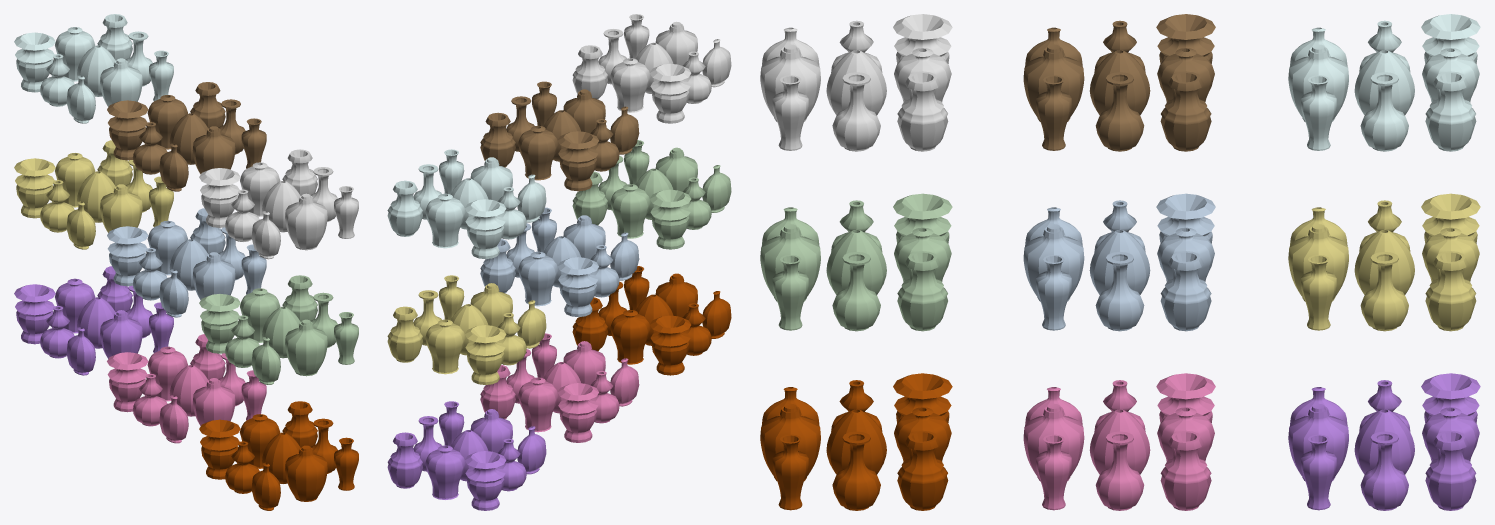
The model's file is vase_1.fbx.
3 renders of one model, left to right at view 1: azimuth 30°, elevation 25°; view 2: azimuth 150°, elevation 25°; view 3: azimuth 270°, elevation 25°, orthographic. The views are drawn at different scales.
Visible parts, largest first — view 1: pCylinder205, pCylinder223, pCylinder232, pCylinder169, pCylinder178, pCylinder196, pCylinder214, pCylinder241, pCylinder187, pCylinder201, pCylinder210, pCylinder192 (+69 smaller); view 2: pCylinder178, pCylinder205, pCylinder214, pCylinder187, pCylinder241, pCylinder196, pCylinder169, pCylinder223, pCylinder232, pCylinder238, pCylinder229, pCylinder220 (+69 smaller); view 3: pCylinder172, pCylinder208, pCylinder217, pCylinder226, pCylinder181, pCylinder235, pCylinder190, pCylinder199, pCylinder244, pCylinder228, pCylinder165, pCylinder174 (+60 smaller).
Boxes of the visible parts, x1,y1,x2,y2 form: pCylinder205: (199, 168, 240, 227); pCylinder223: (14, 158, 55, 218); pCylinder232: (14, 32, 55, 92); pCylinder169: (107, 226, 148, 286); pCylinder178: (107, 100, 148, 160); pCylinder196: (199, 294, 240, 353); pCylinder214: (199, 419, 240, 479); pCylinder241: (14, 284, 55, 344); pCylinder187: (107, 352, 148, 412); pCylinder201: (285, 193, 327, 250); pCylinder210: (285, 445, 327, 501); pCylinder192: (285, 319, 327, 376); pCylinder178: (557, 131, 598, 191); pCylinder205: (650, 63, 691, 123); pCylinder214: (650, 315, 691, 375); pCylinder187: (557, 383, 598, 442); pCylinder241: (464, 451, 506, 510); pCylinder196: (650, 189, 691, 249); pCylinder169: (557, 257, 598, 317); pCylinder223: (464, 325, 506, 384); pCylinder232: (464, 199, 506, 259); pCylinder238: (425, 445, 465, 499); pCylinder229: (425, 193, 465, 248); pCylinder220: (425, 319, 465, 374); pCylinder172: (1160, 251, 1211, 331); pCylinder208: (897, 71, 948, 151); pCylinder217: (897, 430, 948, 510); pCylinder226: (1425, 251, 1476, 331); pCylinder181: (1160, 71, 1211, 151); pCylinder235: (1425, 71, 1476, 151); pCylinder190: (1160, 430, 1211, 510); pCylinder199: (897, 251, 947, 331); pCylinder244: (1425, 430, 1476, 510); pCylinder228: (1288, 44, 1348, 121); pCylinder165: (1023, 224, 1084, 301); pCylinder174: (1023, 44, 1084, 121).
Size of the model in its own units: 8.51 by 21.61 by 32.71.
